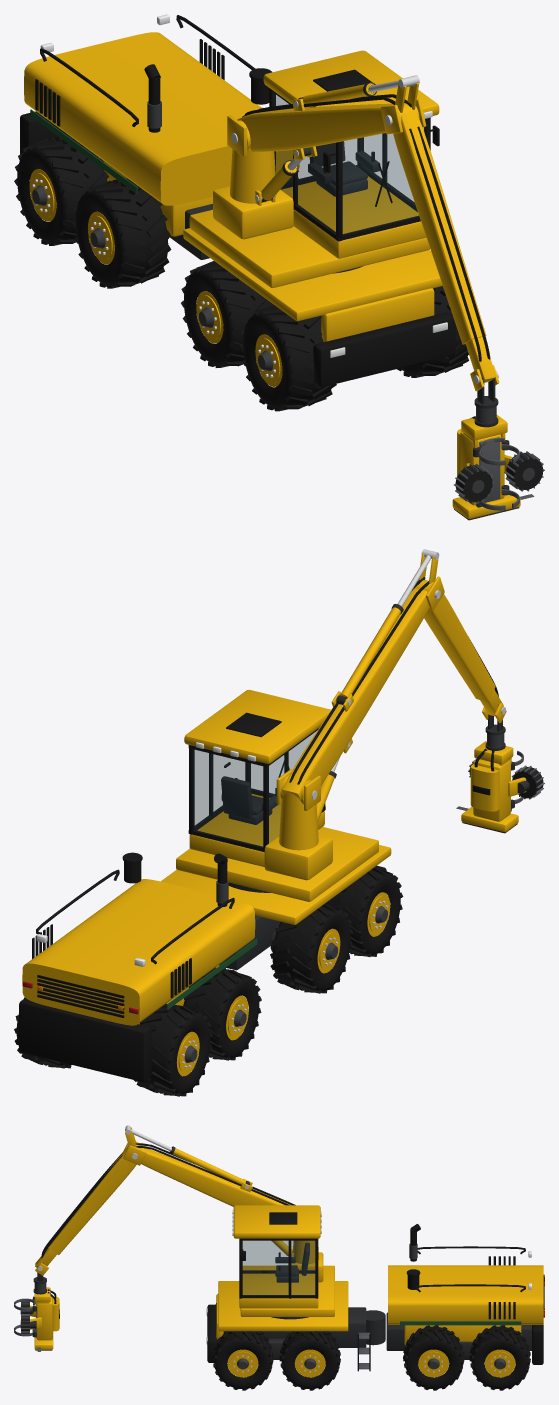
The model's file is harvester.glb.
The picture shows the model from 3 angles, top to bottom: view 1: azimuth 30°, elevation 25°; view 2: azimuth 150°, elevation 25°; view 3: azimuth 270°, elevation 25°; orthographic projection. The views are drawn at different scales.
Parts seen in each view (by area): view 1: Chassis, Cab, Turret, Boom2, Wheel_5, Head, Boom1, Wheel_1, Wheel_7, Wheel_3, Wheel_0, Cyl2_Barrel (+1 smaller); view 2: Chassis, Cab, Turret, Boom1, Wheel_3, Head, Wheel_7, Wheel_5, Wheel_1, Boom2, Cyl2_Barrel; view 3: Chassis, Cab, Boom1, Wheel_4, Wheel_6, Wheel_2, Wheel_0, Boom2, Turret, Head, Cyl2_Barrel.
Part boxes in pixels (x1,y1,x2,y2): Chassis: [20, 14, 455, 386]; Cab: [263, 50, 439, 258]; Turret: [189, 107, 430, 287]; Boom2: [393, 75, 499, 391]; Wheel_5: [72, 178, 171, 288]; Head: [452, 371, 544, 520]; Boom1: [237, 94, 426, 160]; Wheel_1: [240, 304, 336, 411]; Wheel_7: [14, 135, 109, 245]; Wheel_3: [181, 261, 272, 367]; Wheel_0: [397, 286, 468, 377]; Cyl2_Barrel: [298, 82, 376, 107]; Chassis: [19, 845, 391, 1081]; Cab: [184, 689, 330, 866]; Turret: [176, 769, 378, 901]; Boom1: [280, 576, 444, 804]; Wheel_3: [270, 903, 353, 993]; Head: [456, 707, 544, 833]; Wheel_7: [134, 1003, 212, 1096]; Wheel_5: [183, 967, 261, 1060]; Wheel_1: [326, 867, 403, 956]; Boom2: [415, 549, 506, 722]; Cyl2_Barrel: [336, 604, 403, 704]; Chassis: [206, 1224, 544, 1371]; Cab: [232, 1205, 321, 1308]; Boom1: [123, 1141, 295, 1206]; Wheel_4: [403, 1325, 464, 1390]; Wheel_6: [469, 1325, 530, 1390]; Wheel_2: [279, 1331, 340, 1390]; Wheel_0: [212, 1331, 273, 1390]; Boom2: [35, 1125, 141, 1275]; Turret: [240, 1240, 334, 1319]; Head: [14, 1266, 59, 1351]; Cyl2_Barrel: [169, 1146, 249, 1184].
Size of the model in its own units: 2.81 by 5.55 by 11.83.
